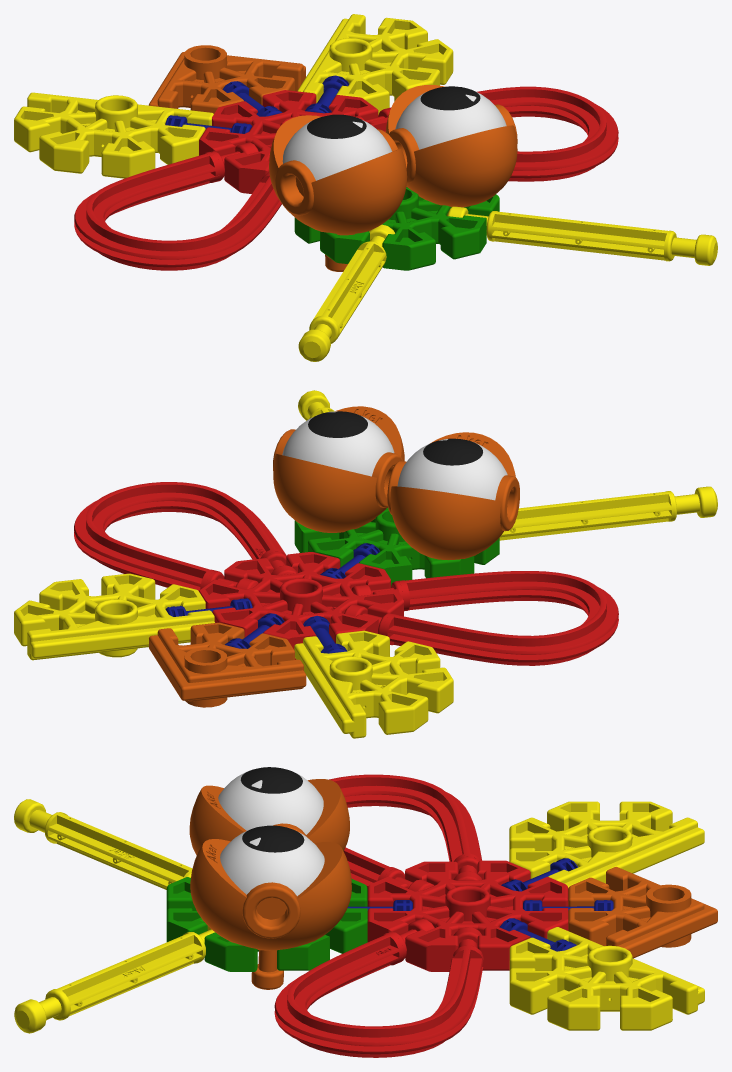
3 views of the same model, one above another, from view 1: azimuth 30°, elevation 25°; view 2: azimuth 150°, elevation 25°; view 3: azimuth 270°, elevation 25° (orthographic). The views are drawn at different scales.
Visible parts, largest first — view 1: Untitled.5110, Untitled.5099, Untitled.5100, Untitled.5097, Untitled.5084, Untitled.5098, Untitled.5109, Untitled.5102, Untitled.5088, Untitled.5094, transform1.010, Untitled.5096 (+8 smaller); view 2: Untitled.5099, Untitled.5100, Untitled.5110, Untitled.5109, Untitled.5098, Untitled.5102, transform1.010, Untitled.5088, Untitled.5094, Untitled.5097, Untitled.5095, Untitled.5089 (+8 smaller); view 3: Untitled.5109, Untitled.5100, Untitled.5098, Untitled.5110, Untitled.5102, Untitled.5094, Untitled.5097, Untitled.5099, Untitled.5084, transform1.010, Untitled.5095, Untitled.5089 (+11 smaller).
Part boxes in pixels (<box>): Untitled.5110: <box>14,92,213,178</box>; Untitled.5099: <box>74,152,281,270</box>; Untitled.5100: <box>297,14,453,114</box>; Untitled.5097: <box>294,187,499,270</box>; Untitled.5084: <box>446,206,717,265</box>; Untitled.5098: <box>386,86,618,181</box>; Untitled.5109: <box>199,90,387,193</box>; Untitled.5102: <box>148,45,305,113</box>; Untitled.5088: <box>269,115,407,271</box>; Untitled.5094: <box>388,85,517,207</box>; transform1.010: <box>298,224,394,361</box>; Untitled.5096: <box>385,112,517,172</box>; Untitled.5099: <box>382,571,618,665</box>; Untitled.5100: <box>14,573,214,660</box>; Untitled.5110: <box>294,630,453,738</box>; Untitled.5109: <box>199,552,403,659</box>; Untitled.5098: <box>74,482,286,590</box>; Untitled.5102: <box>149,622,306,707</box>; transform1.010: <box>499,486,717,540</box>; Untitled.5088: <box>387,432,519,560</box>; Untitled.5094: <box>273,406,403,532</box>; Untitled.5097: <box>294,508,499,586</box>; Untitled.5095: <box>282,415,394,476</box>; Untitled.5089: <box>397,442,507,500</box>; Untitled.5109: <box>367,860,568,971</box>; Untitled.5100: <box>509,927,704,1030</box>; Untitled.5098: <box>274,933,483,1057</box>; Untitled.5110: <box>509,801,704,887</box>; Untitled.5102: <box>568,867,717,958</box>; Untitled.5094: <box>190,839,351,989</box>; Untitled.5097: <box>166,877,367,971</box>; Untitled.5099: <box>329,774,481,888</box>; Untitled.5084: <box>14,926,214,1033</box>; transform1.010: <box>14,799,192,889</box>; Untitled.5095: <box>220,830,324,896</box>; Untitled.5089: <box>218,771,323,834</box>.
Bounding box in the file's own units: 1.94 × 0.5272 × 2.17.
